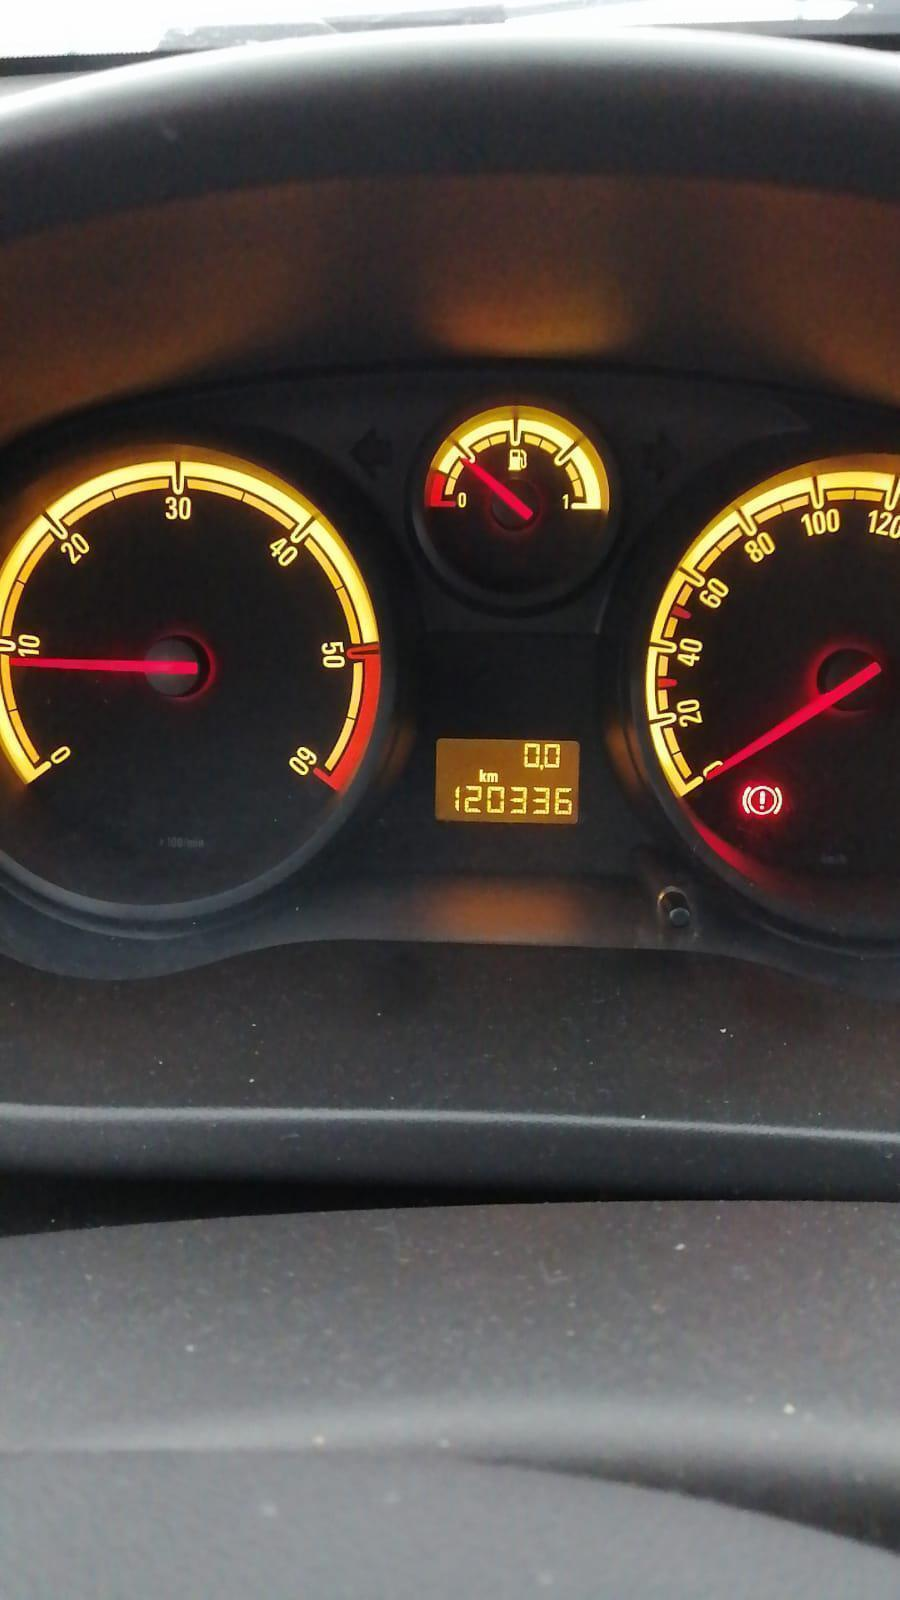,: (538, 763, 544, 771)
0: (485, 785, 505, 814), (543, 743, 560, 768), (523, 743, 540, 768)
1: (454, 785, 460, 812)
2: (463, 785, 482, 813)
3: (508, 786, 527, 815), (531, 786, 549, 815)
6: (553, 787, 573, 815)
X: (486, 773, 498, 782), (479, 768, 486, 782)
odometer: (433, 736, 581, 826)
